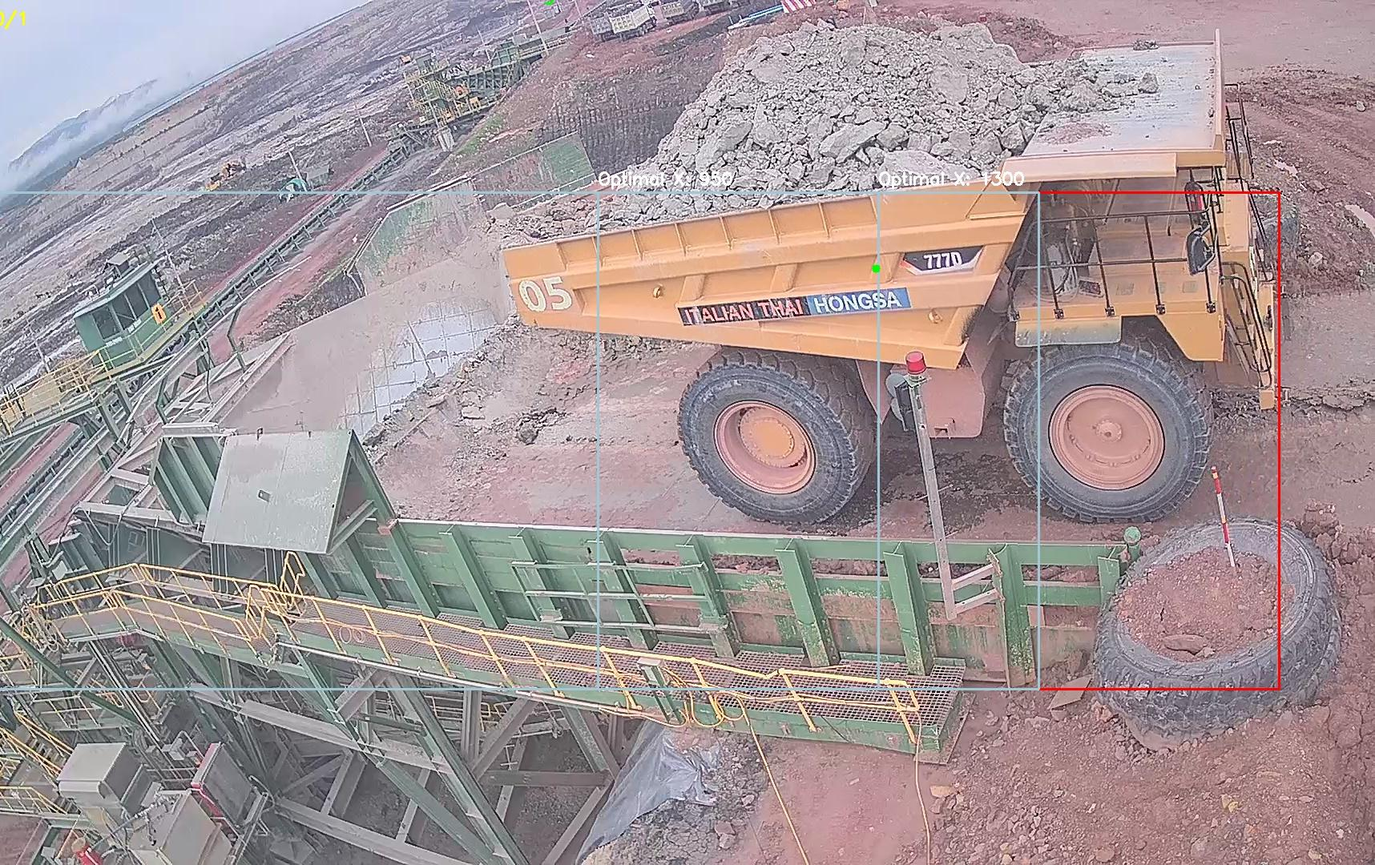company: (671, 279, 926, 328)
full_load: (642, 18, 1012, 206)
mining_truck: (495, 7, 1285, 537)
tail_number: (509, 265, 583, 324)
truck_size: (894, 237, 988, 279)
